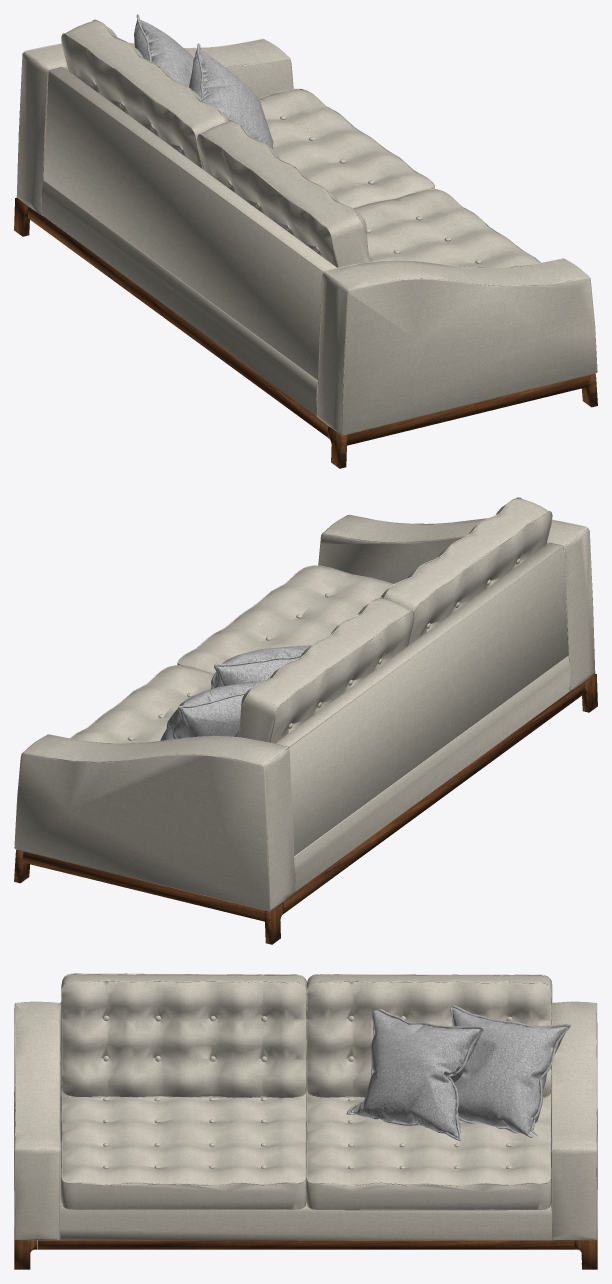
File: sofa.glb
3 renders of one model, top to bottom at view 1: azimuth 30°, elevation 25°; view 2: azimuth 150°, elevation 25°; view 3: azimuth 270°, elevation 25°, orthographic. The views are drawn at different scales.
Visible parts, largest first — view 1: Sofa Medea Bond Divano Art5536E N291220; view 2: Sofa Medea Bond Divano Art5536E N291220; view 3: Sofa Medea Bond Divano Art5536E N291220.
Part boxes in pixels (x1,y1,x2,y2): Sofa Medea Bond Divano Art5536E N291220: (14, 14, 597, 468); Sofa Medea Bond Divano Art5536E N291220: (14, 497, 597, 944); Sofa Medea Bond Divano Art5536E N291220: (14, 973, 597, 1269).
Size of the model in its own units: 0.1523 by 0.1217 by 0.3261.
3 materials, 3 textured.
